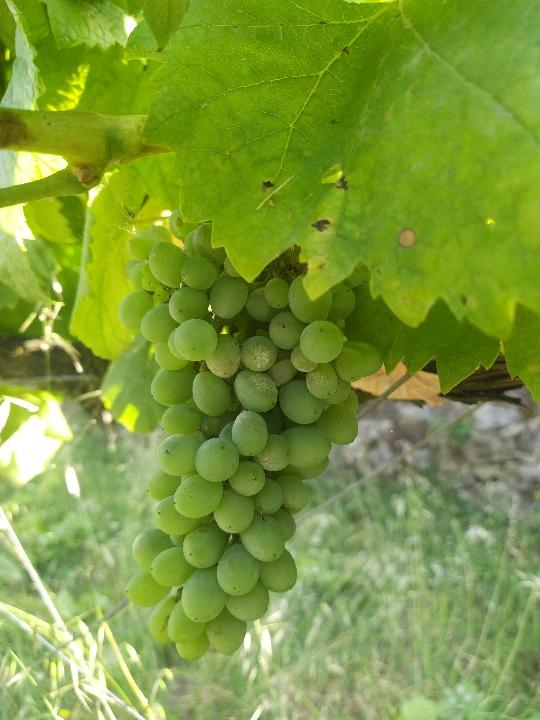grape: (115, 210, 384, 662)
